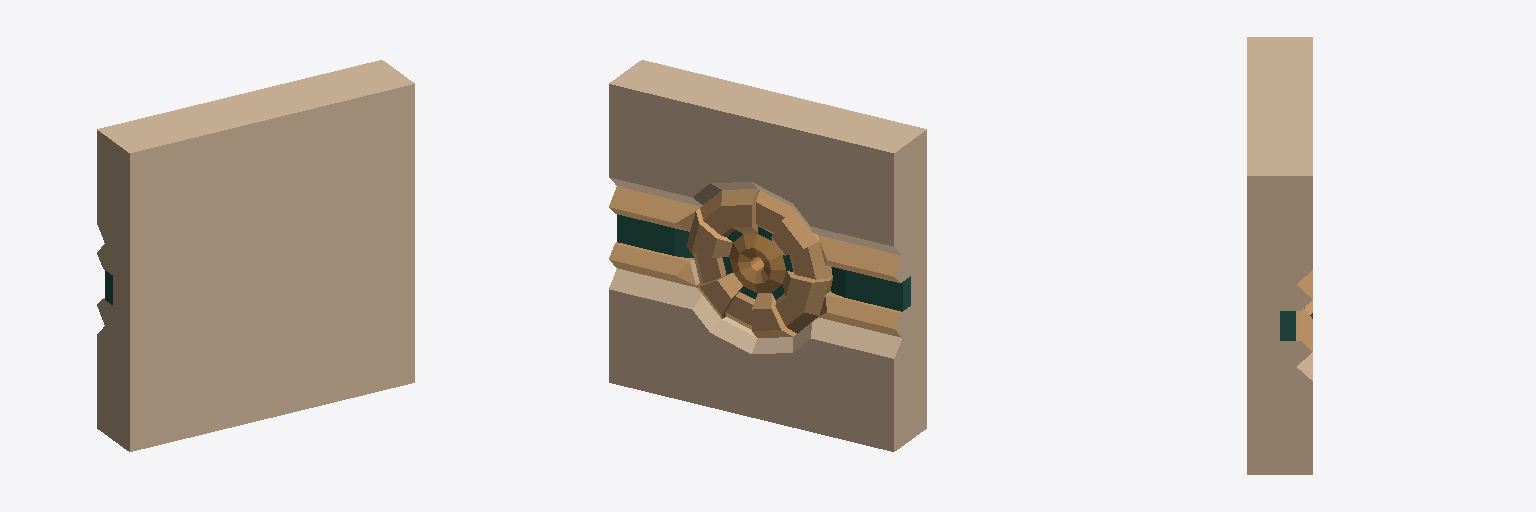
Rendered from Puzzle_Wall_Conduit_Emitter_Straight.obj.
3 renders of one model, left to right at view 1: azimuth 30°, elevation 25°; view 2: azimuth 150°, elevation 25°; view 3: azimuth 270°, elevation 25°, orthographic.
Parts seen in each view (by area): view 1: object5; view 2: object5, object3, object1, object2, object4; view 3: object5.
Boxes of the visible parts, x1=… form: object5: x1=97, y1=60, x2=414, y2=451; object5: x1=609, y1=60, x2=926, y2=451; object3: x1=686, y1=189, x2=832, y2=337; object1: x1=831, y1=267, x2=910, y2=311; object2: x1=617, y1=214, x2=693, y2=257; object4: x1=722, y1=226, x2=792, y2=299; object5: x1=1247, y1=37, x2=1312, y2=474.
Size of the model in its own units: 1 by 1 by 0.2.